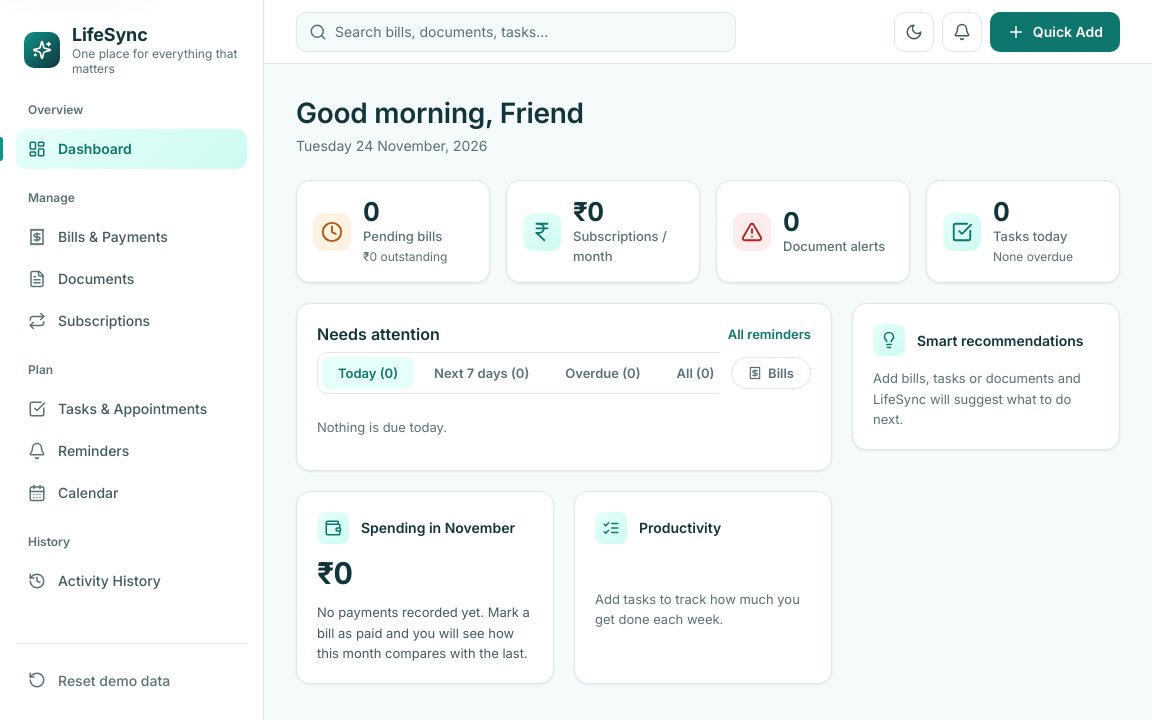
Needs attention panel › says so when a filter has nothing to show
Expected: the element "Needs attention" is shown, [296,303,832,471]
Expected: the text "Nothing is due today." is shown, [317,419,447,435]
Click the tab "Overdue (0)".
click(603, 373)  # box [549,357,657,389]
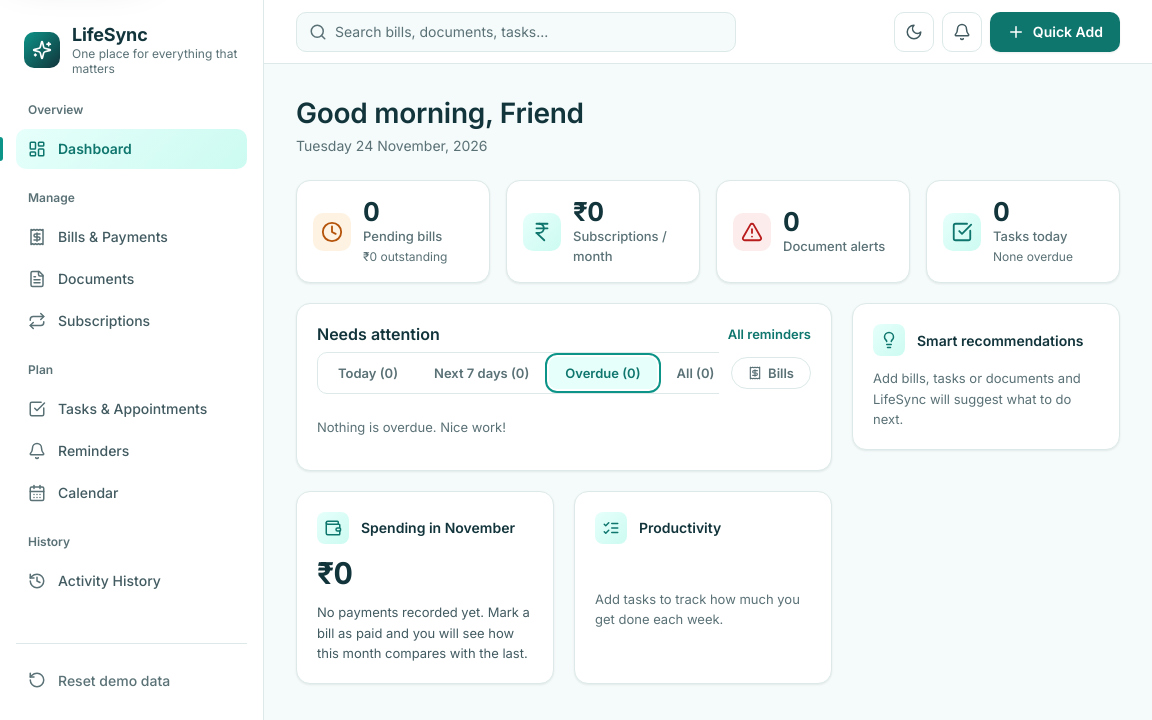
Expected: the text "Nothing is overdue. Nice work!" is shown, [317,419,506,435]
Click the button "Bills".
click(771, 373)  # box [731,357,811,389]
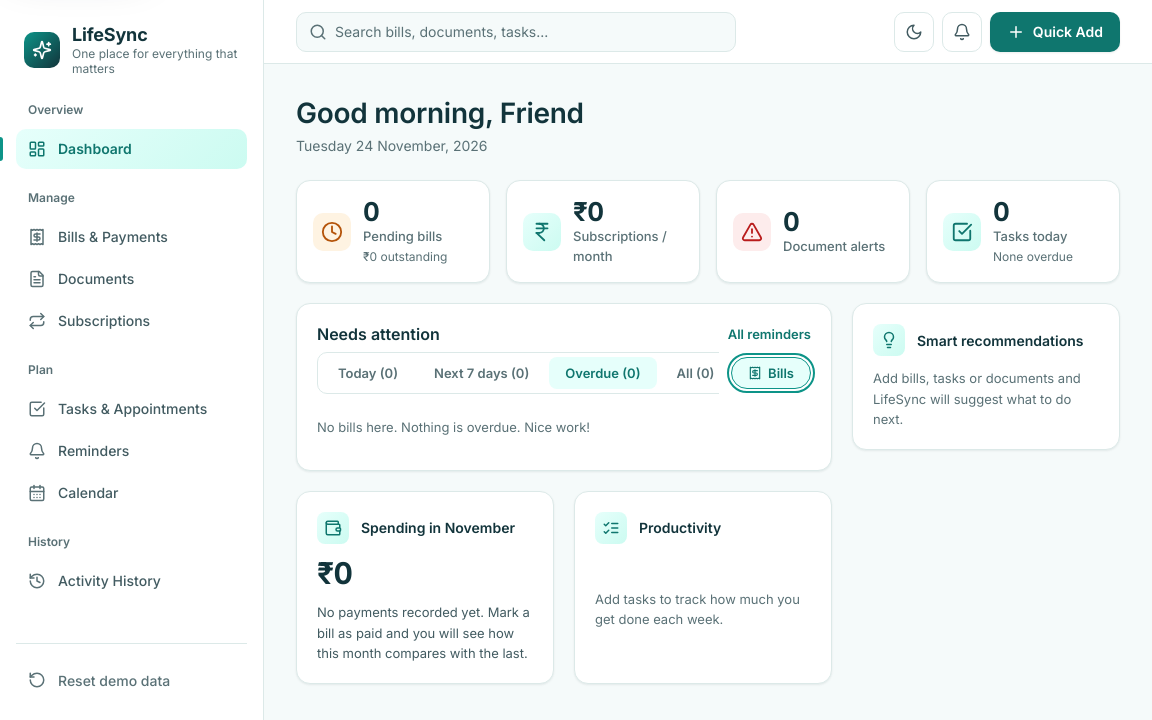
Expected: the text "No bills here. Nothing is overdue. Nice work!" is shown, [317,419,590,435]
